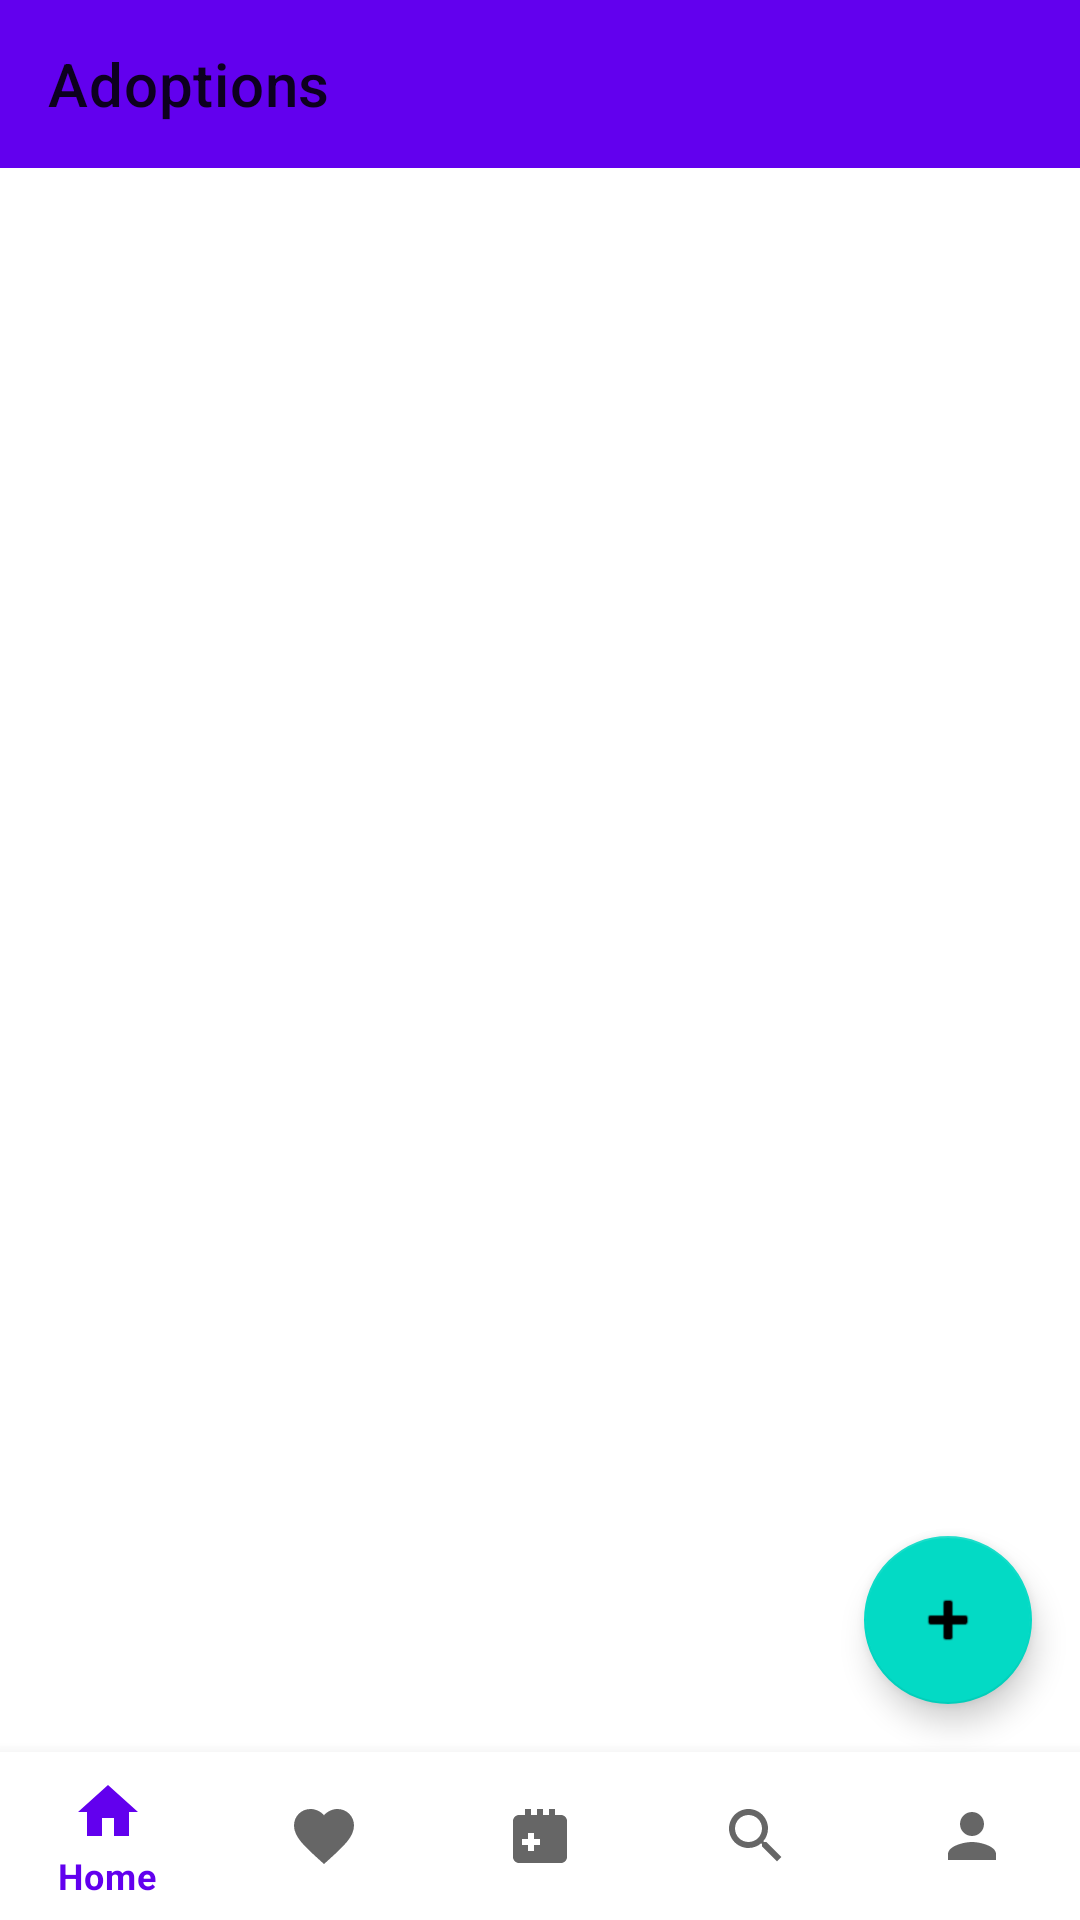

Screen size 1080×1920. Icon name, then its center in pixels as (x,y):
add: (948,1620)
